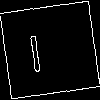I: (25, 25, 44, 73)
